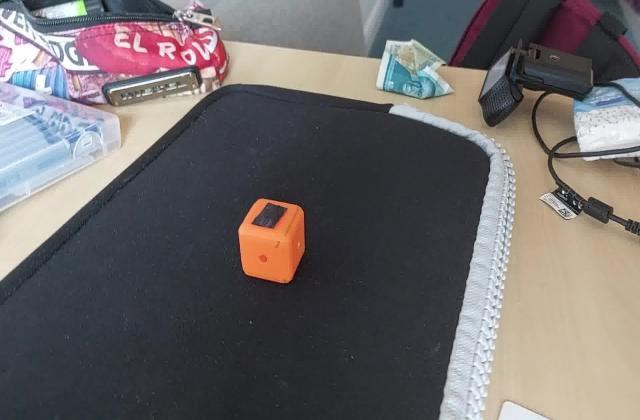black: (260, 204, 284, 232)
cube: (238, 198, 309, 285)
